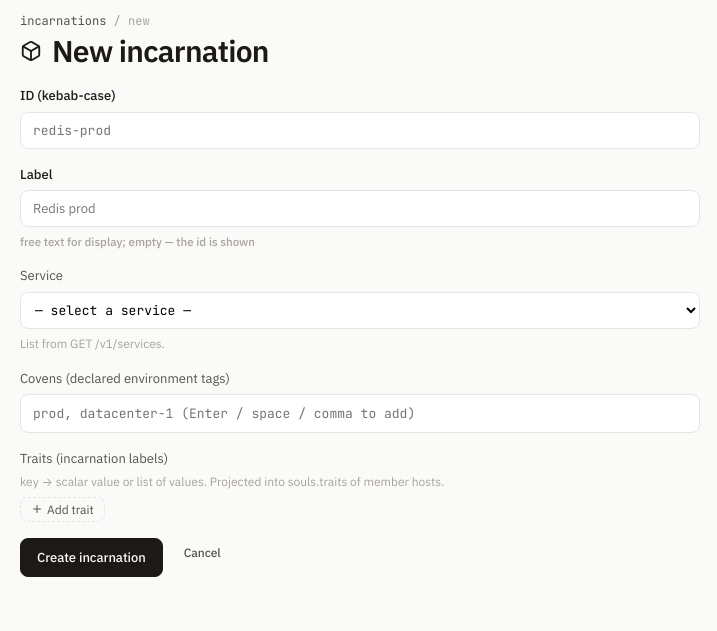
Test: TraitsEditor in the incarnation create form › removes a trait row
The image size is (717, 631).
Click the button with test id "traits-add-row" at (62, 509), box [20,497,105,522]
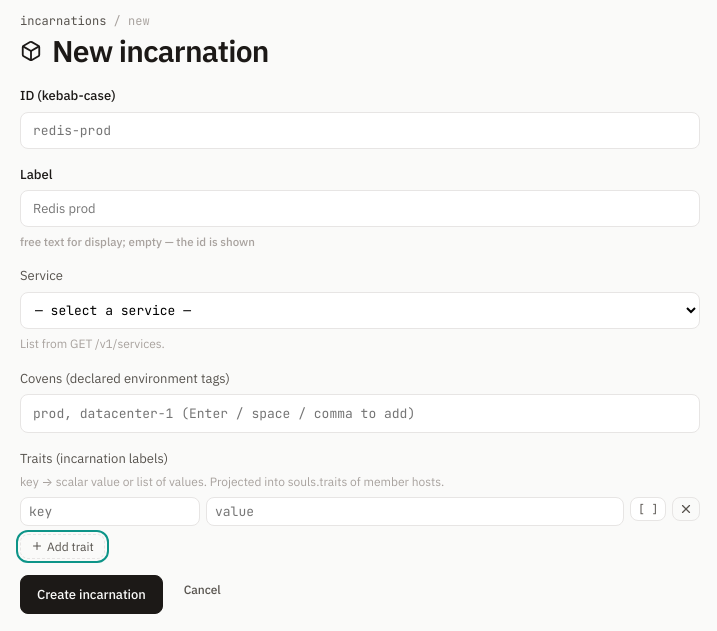
Expected: the number of elements with test id "trait-row" is 1, [20,497,700,526]
Click the button named "Remove trait" at (686, 509), box [672,497,700,521]
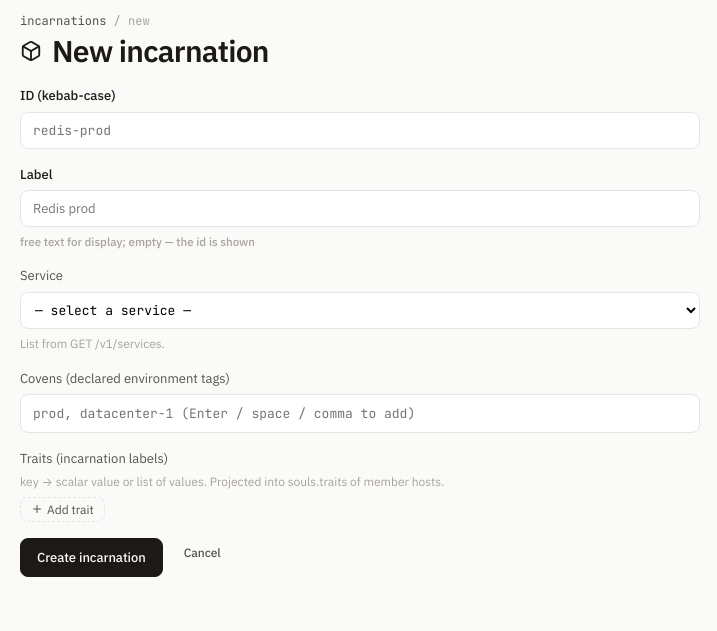
Expected: no elements with test id "trait-row" are shown
